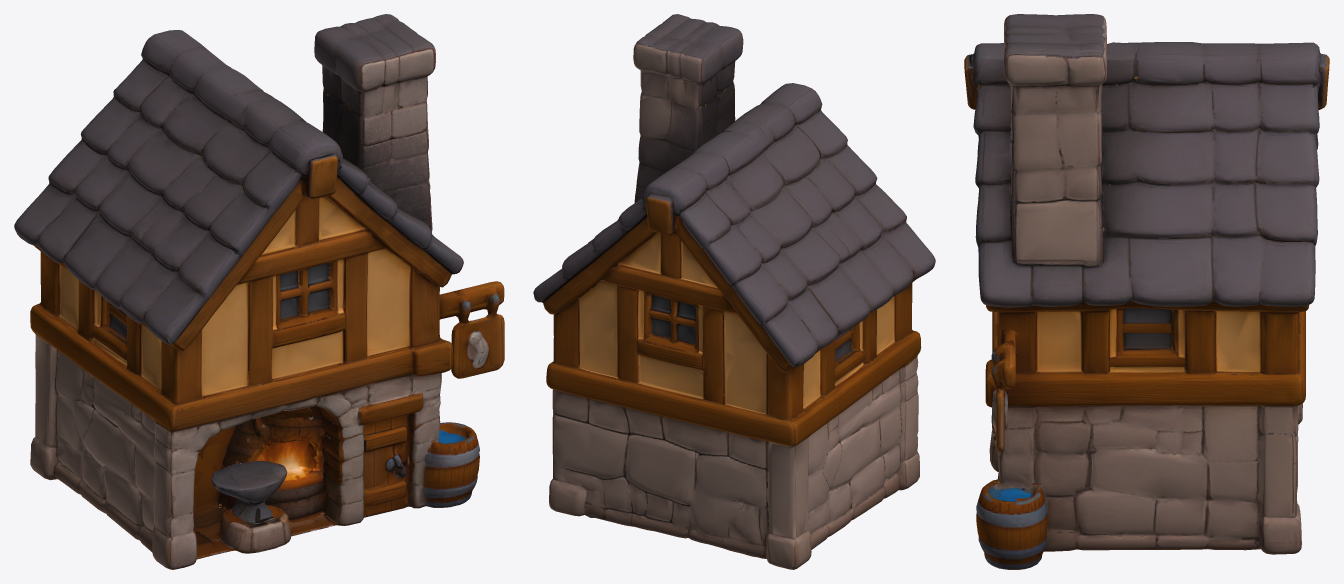
The model's file is ck_smithy.glb.
The picture shows the model from 3 angles, left to right: view 1: azimuth 30°, elevation 25°; view 2: azimuth 150°, elevation 25°; view 3: azimuth 270°, elevation 25°; orthographic projection. The views are drawn at different scales.
Visible parts, largest first — view 1: ck_smithy; view 2: ck_smithy; view 3: ck_smithy.
Boxes of the visible parts, x1,y1,x2,y2 form: ck_smithy: [14, 14, 504, 569]; ck_smithy: [533, 14, 935, 569]; ck_smithy: [964, 14, 1329, 569].
Size of the model in its own units: 1.58 by 1.97 by 1.3.
1 material, 1 textured.
